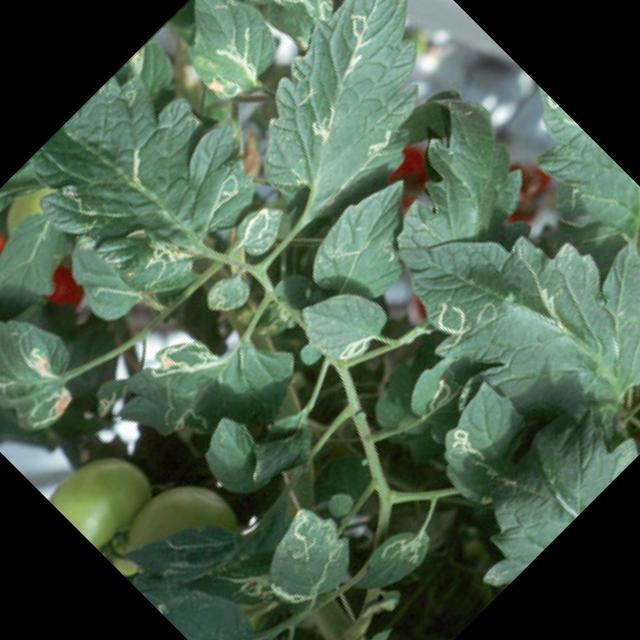Tomato target spot leaf: (30, 92, 254, 329), (420, 200, 640, 436), (263, 0, 418, 217), (287, 273, 399, 385), (187, 0, 282, 104), (262, 508, 351, 608), (134, 328, 228, 422), (0, 321, 72, 429), (340, 522, 430, 599), (428, 414, 503, 489)
